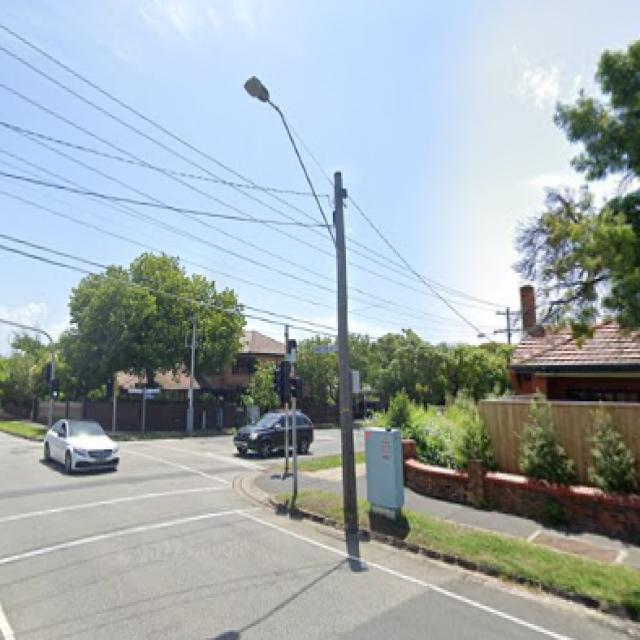crossarm: (493, 328, 521, 334), (496, 312, 522, 316)
steel-pole: (288, 345, 299, 498), (187, 320, 196, 436), (49, 339, 55, 433)
streetlight: (242, 74, 338, 248)
timber-pole: (332, 170, 360, 532), (507, 307, 511, 345)
top mount suitable pole: (240, 72, 361, 536)
traffic pole: (273, 343, 300, 500)
traffic-light: (273, 358, 299, 404), (50, 379, 60, 401)
